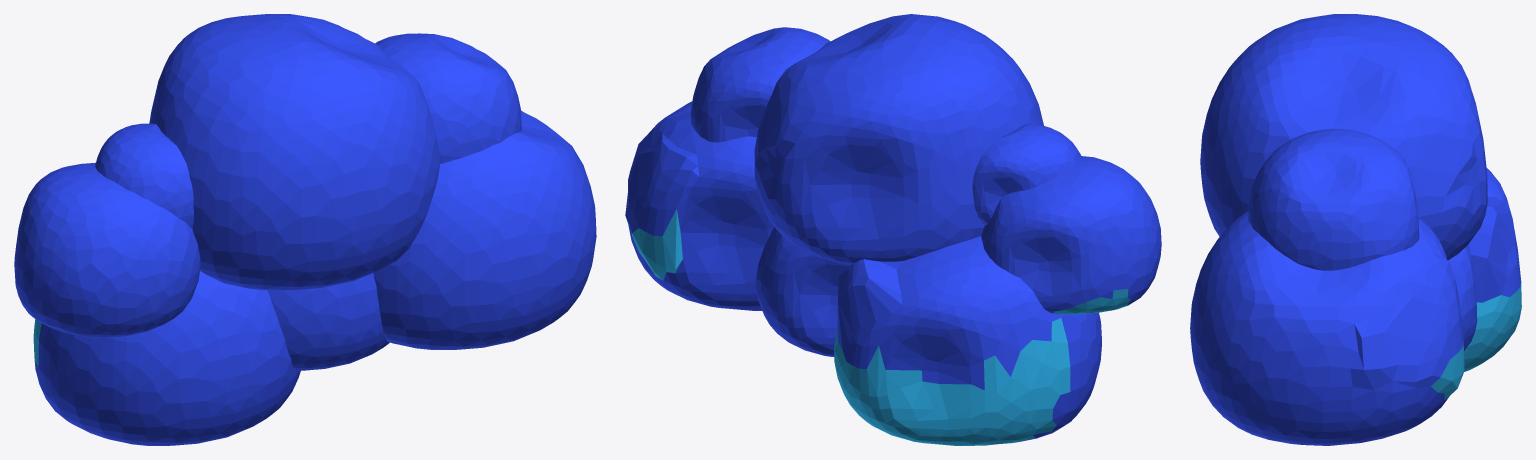
The model's file is blackCloud.fbx.
3 renders of one model, left to right at view 1: azimuth 30°, elevation 25°; view 2: azimuth 150°, elevation 25°; view 3: azimuth 270°, elevation 25°, orthographic. The views are drawn at different scales.
Parts seen in each view (by area): view 1: Cube; view 2: Cube; view 3: Cube.
Part boxes in pixels (box(x1,y1,x2,y2)): Cube: box(14, 14, 596, 445); Cube: box(625, 14, 1161, 445); Cube: box(1190, 14, 1521, 445).
Size of the model in its own units: 3.64 by 2.37 by 1.99.
